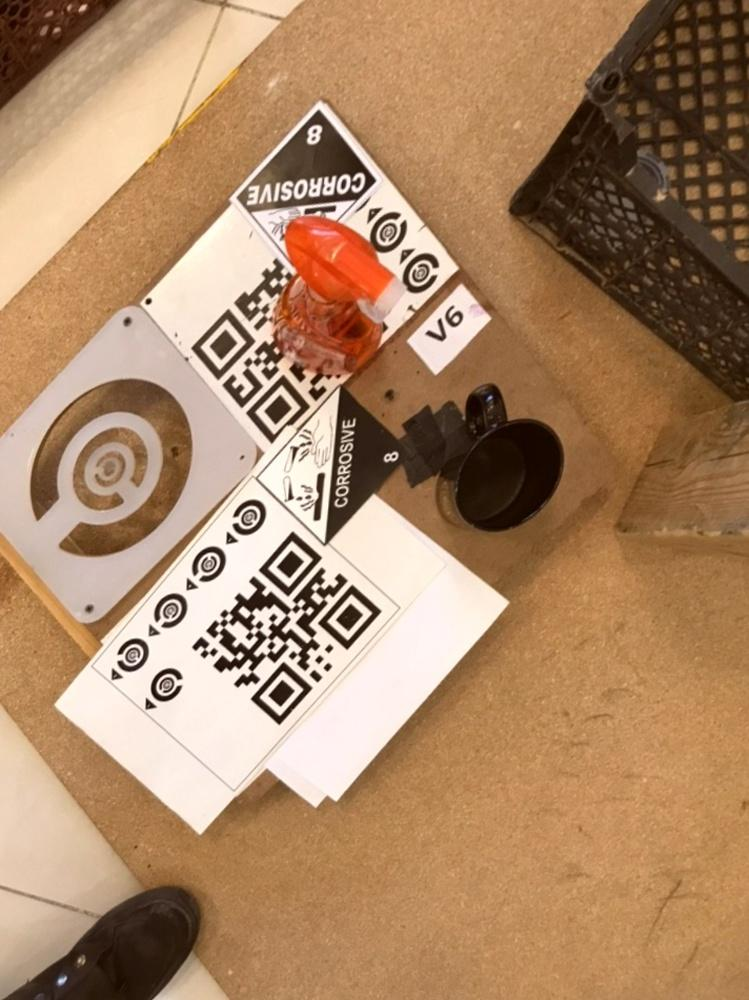corrosive: (227, 78, 391, 268), (259, 373, 408, 552)
